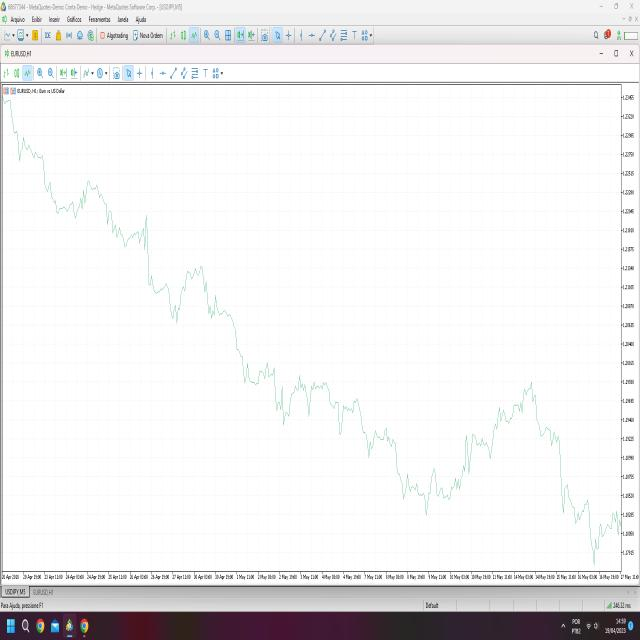bandeira_baixa: (143, 203, 190, 326), (390, 416, 434, 526)
